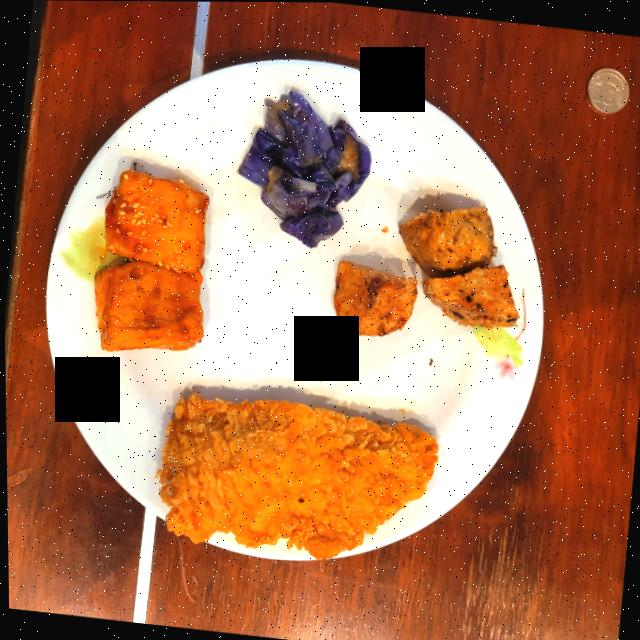coin: (586, 67, 627, 113)
creamy tofu: (92, 170, 207, 350)
fried chicken cutlet: (156, 393, 435, 558)
fried potato: (397, 205, 517, 327), (331, 260, 415, 335)
